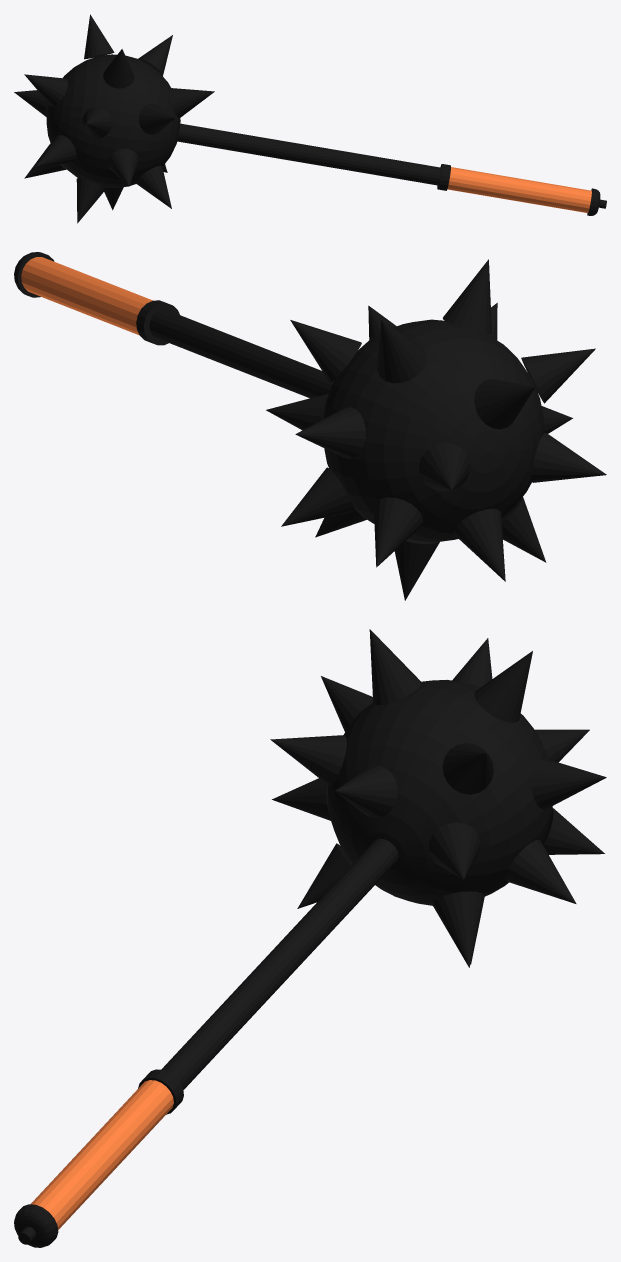
The model's file is Mace.obj.
3 views of the same model, one above another, from view 1: azimuth 30°, elevation 25°; view 2: azimuth 150°, elevation 25°; view 3: azimuth 270°, elevation 25° (orthographic). The views are drawn at different scales.
Visible parts, largest first — view 1: Sphere001, Cylinder001, Cylinder015, Cylinder017, Cylinder019, Cylinder004, Cylinder013, Cylinder016, Cylinder020, Cylinder018, Cylinder003, Cylinder012 (+3 smaller); view 2: Sphere001, Cylinder001, Cylinder005, Cylinder014, Cylinder011, Cylinder012, Cylinder017, Cylinder015, Cylinder007, Cylinder019, Cylinder009, Cylinder010 (+6 smaller); view 3: Sphere001, Cylinder001, Cylinder014, Cylinder012, Cylinder007, Cylinder006, Cylinder020, Cylinder019, Cylinder013, Cylinder008, Cylinder010, Cylinder005 (+5 smaller).
Part boxes in pixels (bbox=[...]): Sphere001: bbox=[46, 54, 180, 188]; Cylinder001: bbox=[177, 123, 606, 215]; Cylinder015: bbox=[35, 135, 76, 166]; Cylinder017: bbox=[24, 74, 67, 106]; Cylinder019: bbox=[103, 49, 134, 88]; Cylinder004: bbox=[136, 165, 171, 208]; Cylinder013: bbox=[169, 88, 214, 117]; Cylinder016: bbox=[108, 148, 138, 186]; Cylinder020: bbox=[138, 103, 175, 134]; Cylinder018: bbox=[82, 107, 112, 138]; Cylinder003: bbox=[76, 178, 105, 223]; Cylinder012: bbox=[84, 14, 114, 59]; Sphere001: bbox=[323, 319, 544, 542]; Cylinder001: bbox=[14, 252, 334, 398]; Cylinder005: bbox=[374, 497, 423, 567]; Cylinder014: bbox=[295, 407, 365, 458]; Cylinder011: bbox=[454, 508, 505, 581]; Cylinder012: bbox=[377, 319, 426, 383]; Cylinder017: bbox=[474, 379, 535, 429]; Cylinder015: bbox=[531, 433, 606, 482]; Cylinder007: bbox=[281, 467, 354, 526]; Cylinder019: bbox=[443, 259, 491, 334]; Cylinder009: bbox=[419, 442, 470, 491]; Cylinder010: bbox=[290, 320, 361, 383]; Sphere001: bbox=[328, 680, 552, 905]; Cylinder001: bbox=[14, 838, 398, 1247]; Cylinder014: bbox=[530, 757, 606, 809]; Cylinder012: bbox=[474, 651, 532, 722]; Cylinder007: bbox=[506, 840, 576, 903]; Cylinder006: bbox=[432, 891, 484, 967]; Cylinder020: bbox=[270, 735, 346, 785]; Cylinder019: bbox=[369, 629, 421, 704]; Cylinder013: bbox=[335, 765, 397, 817]; Cylinder008: bbox=[428, 822, 480, 879]; Cylinder010: bbox=[442, 743, 493, 794]; Cylinder005: bbox=[542, 808, 604, 854].
Size of the model in its own units: 516700 by 201303 by 339251.
